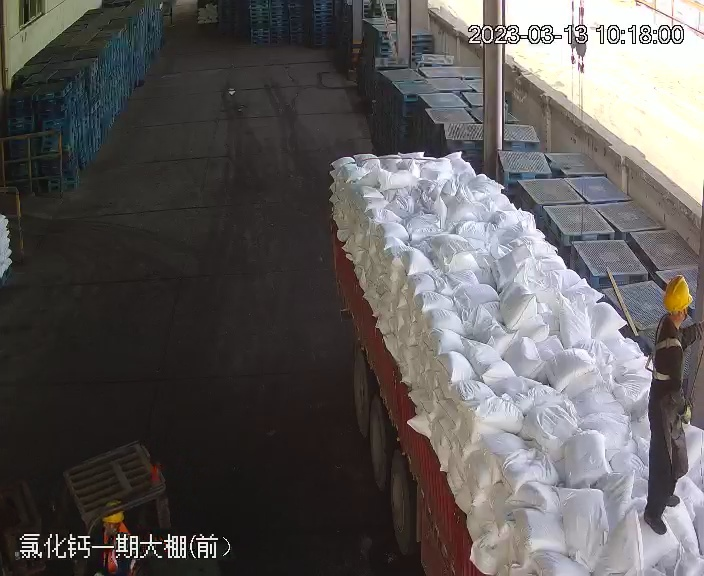belt: (649, 313, 693, 376)
head: (650, 274, 704, 356), (98, 509, 135, 546)
helmet: (661, 273, 693, 312), (102, 509, 124, 522)
people: (642, 271, 704, 542)
truck: (313, 143, 698, 574)
